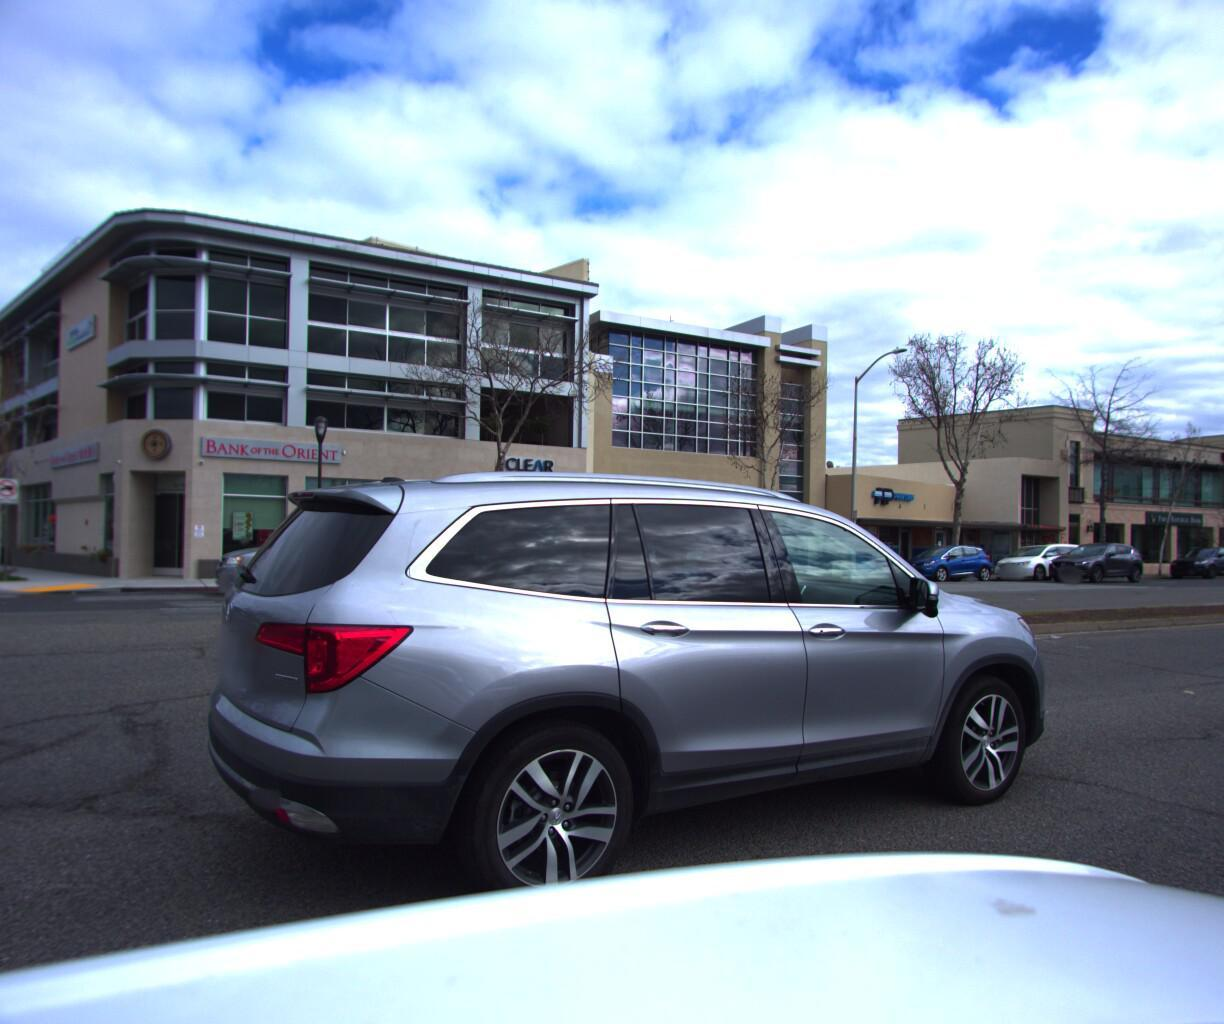car: (187, 437, 1105, 1024), (203, 514, 430, 594), (976, 535, 1097, 577), (888, 537, 999, 580), (1041, 538, 1148, 580), (1149, 539, 1224, 576)
